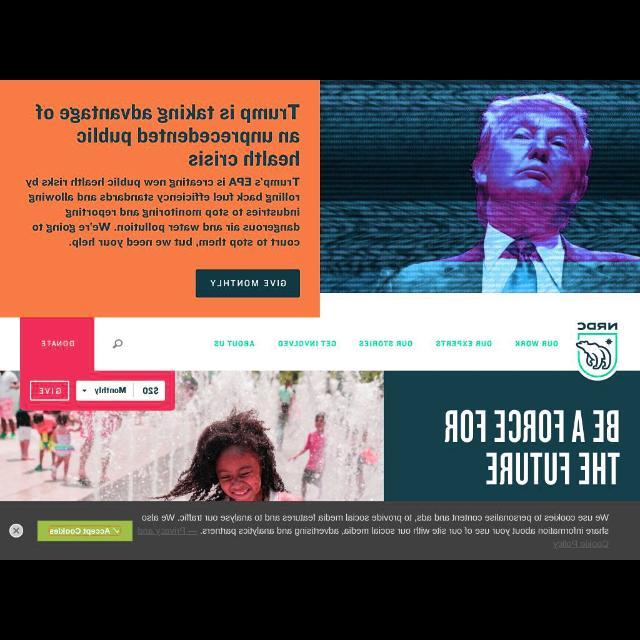button: (8, 524, 24, 538)
icon: (112, 338, 125, 350), (12, 527, 20, 535)
iframe: (1, 502, 640, 558)
image: (320, 80, 640, 292), (1, 372, 383, 500), (576, 322, 620, 382)
spinner: (78, 381, 132, 399)
text: (27, 177, 300, 247), (36, 98, 302, 166), (137, 514, 608, 548), (444, 408, 620, 488), (207, 278, 286, 288), (358, 338, 414, 348), (278, 339, 336, 348), (436, 339, 492, 348), (37, 338, 77, 350), (214, 338, 256, 349), (514, 338, 558, 348), (38, 382, 61, 396), (143, 386, 159, 396)
textbutton: (196, 268, 300, 296), (38, 520, 132, 542), (31, 378, 68, 399)
